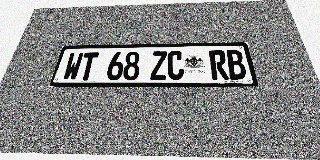6: (106, 52, 125, 80)
8: (122, 51, 141, 80)
B: (225, 50, 248, 80)
C: (167, 51, 184, 80)
R: (209, 50, 229, 80)
T: (77, 52, 99, 81)
W: (61, 52, 84, 81)
Z: (150, 51, 167, 80)
